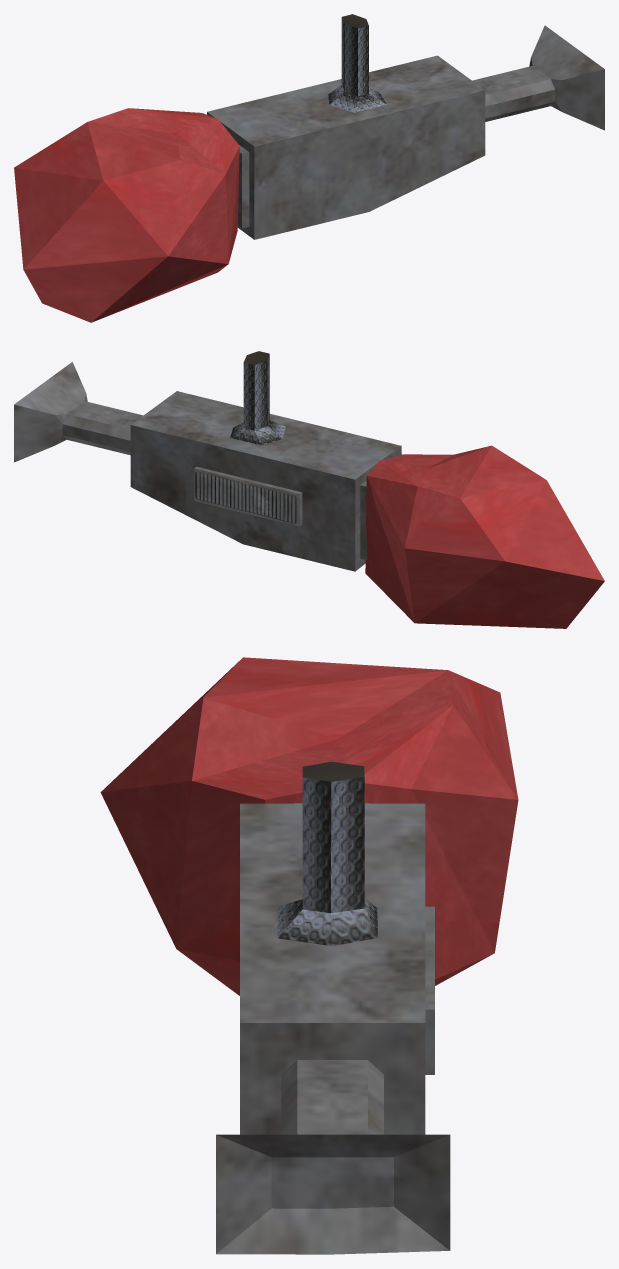
Rendered from FartVacuum.fbx.
3 renders of one model, top to bottom at view 1: azimuth 30°, elevation 25°; view 2: azimuth 150°, elevation 25°; view 3: azimuth 270°, elevation 25°, orthographic. The views are drawn at different scales.
Visible parts, largest first — view 1: Sphere; view 2: Sphere; view 3: Sphere.
Boxes of the visible parts, bbox=[...] form: Sphere: bbox=[14, 14, 604, 322]; Sphere: bbox=[14, 351, 604, 628]; Sphere: bbox=[100, 657, 518, 1254].
Bounding box in the file's own units: 1042 × 365 × 343.
Materials: 4 (4 with a texture image).
